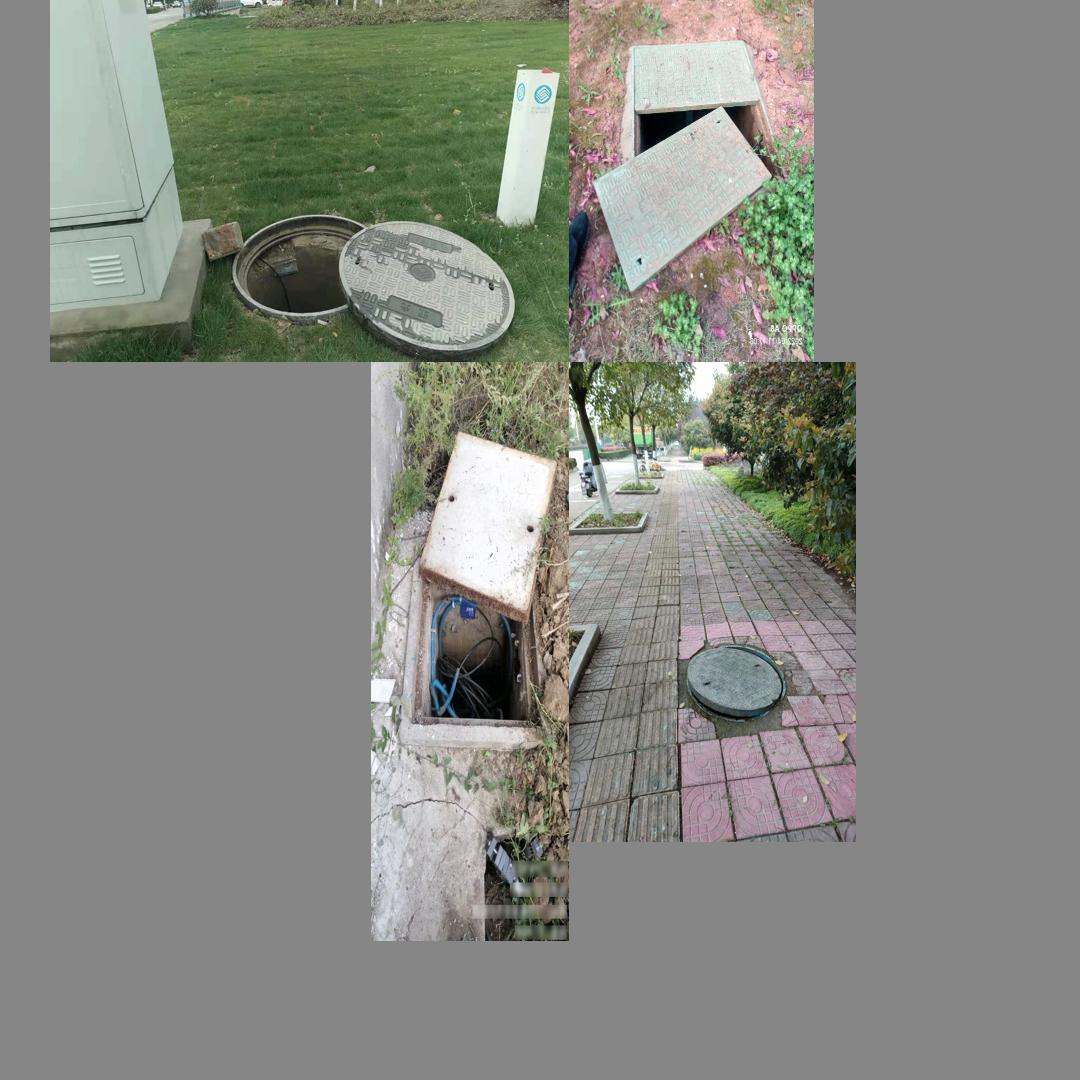uncovered: (397, 430, 558, 747), (592, 39, 784, 291), (228, 203, 514, 349), (678, 640, 805, 726)
